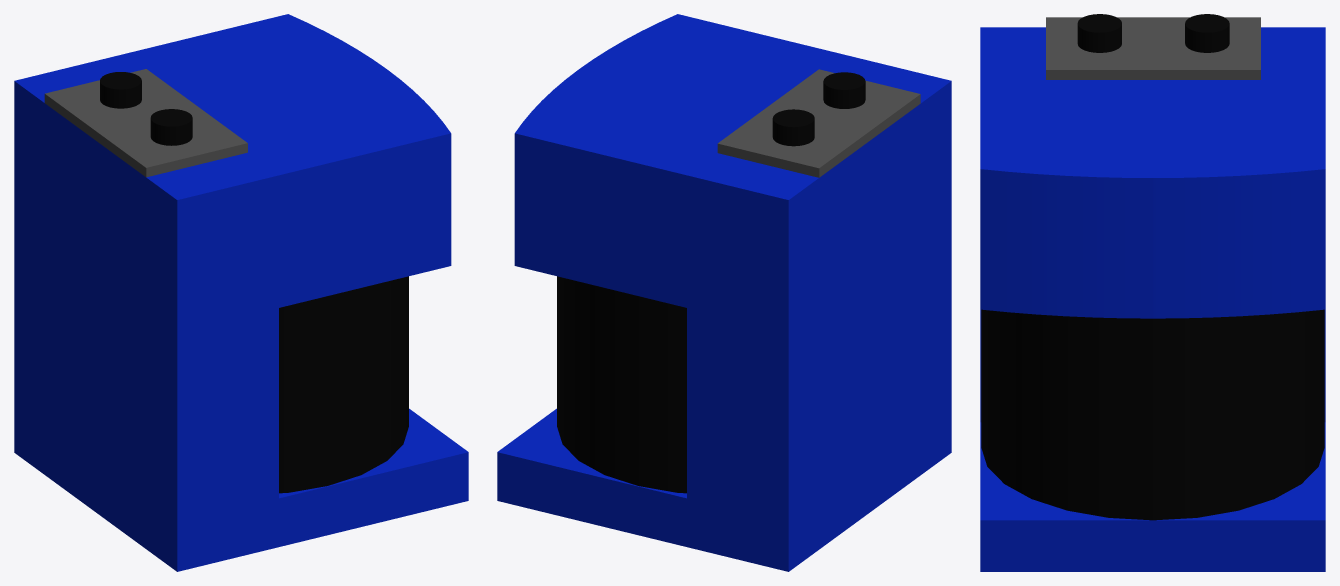
The model's file is bot_PLS200.dae.
The picture shows the model from 3 angles, left to right: view 1: azimuth 30°, elevation 25°; view 2: azimuth 150°, elevation 25°; view 3: azimuth 270°, elevation 25°; orthographic projection. The views are drawn at different scales.
Visible parts, largest first — view 1: SketchUp (×5); view 2: SketchUp (×5); view 3: SketchUp (×5).
Boxes of the visible parts, x1,y1,x2,y2 form: SketchUp (×5): (14,14,468,571); SketchUp (×5): (497,14,951,571); SketchUp (×5): (980,14,1325,571).
Size of the model in its own units: 6.3 by 6.1 by 8.27.
